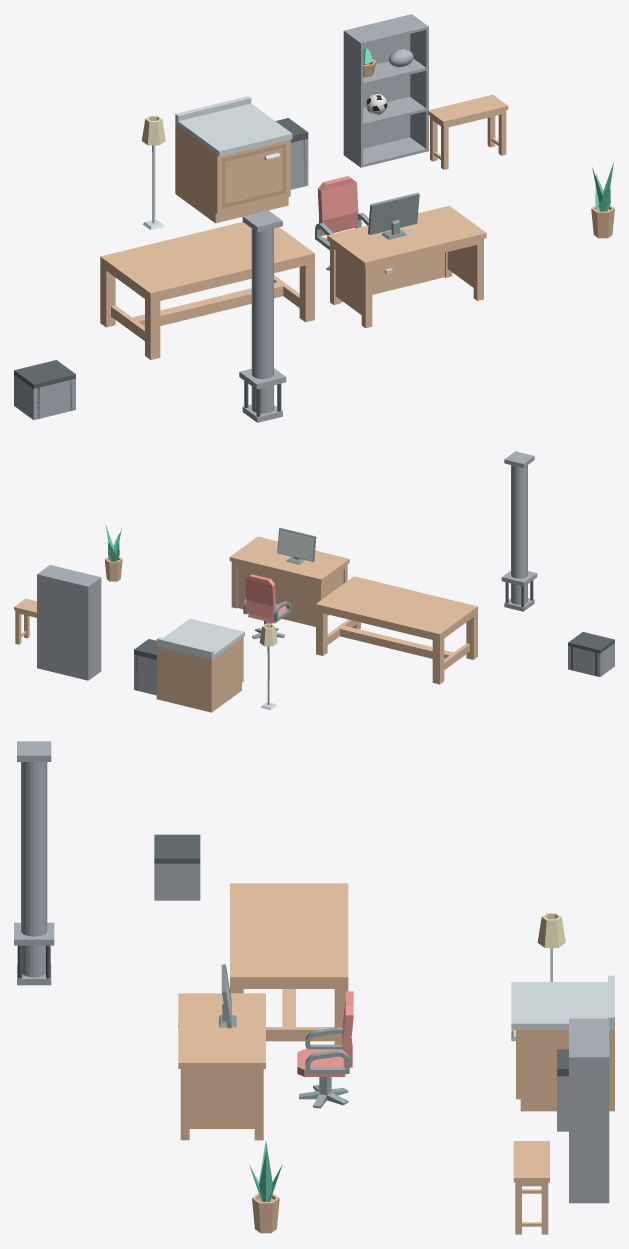
The picture shows the model from 3 angles, top to bottom: view 1: azimuth 30°, elevation 25°; view 2: azimuth 150°, elevation 25°; view 3: azimuth 270°, elevation 25°; orthographic projection. The views are drawn at different scales.
Visible parts, largest first — view 1: table_green__table(Clone), desk_blue__desk(Clone), cabinet_blue__kitchenCabinet(Clone), column_cyan__column_cyan shaft, cabinet_blue__door, sidetable_brown__sideTable(Clone), shelf_orange__shelf_orange back, shelf_orange__shelf_orange side_l, deskchair_black__chair, crate_red__crate_red shell, shelf_orange__shelf_orange side_r, monitor_gray__computerScreen(Clone) (+9 smaller); view 2: table_green__table(Clone), cabinet_blue__kitchenCabinet(Clone), desk_blue__desk(Clone), shelf_orange__shelf_orange back, column_cyan__column_cyan shaft, deskchair_black__chair, shelf_orange__shelf_orange side_l, monitor_gray__computerScreen(Clone), crate_red__crate_red shell, bin_gray__bin_gray shell, sidetable_brown__sideTable(Clone), crate_red__crate_red lid (+3 smaller); view 3: table_green__table(Clone), desk_blue__desk(Clone), cabinet_blue__kitchenCabinet(Clone), shelf_orange__shelf_orange side_r, column_cyan__column_cyan shaft, sidetable_brown__sideTable(Clone), deskchair_black__chair, crate_red__crate_red shell, crate_red__crate_red lid, shelf_orange__shelf_orange board3, lamp_white__lampRoundFloor(Clone), plant_pink__pottedPlant(Clone) (+5 smaller).
Boxes of the visible parts, x1,y1,x2,y2 form: table_green__table(Clone): (100, 221, 314, 359); desk_blue__desk(Clone): (327, 205, 486, 328); cabinet_blue__kitchenCabinet(Clone): (175, 96, 292, 223); column_cyan__column_cyan shaft: (251, 228, 273, 413); cabinet_blue__door: (222, 143, 285, 208); sidetable_brown__sideTable(Clone): (428, 94, 508, 169); shelf_orange__shelf_orange back: (346, 15, 410, 148); shelf_orange__shelf_orange side_l: (343, 30, 363, 167); deskchair_black__chair: (315, 176, 368, 249); crate_red__crate_red shell: (14, 375, 75, 419); shelf_orange__shelf_orange side_r: (409, 14, 428, 151); monitor_gray__computerScreen(Clone): (368, 192, 419, 239); table_green__table(Clone): (316, 576, 477, 684); cabinet_blue__kitchenCabinet(Clone): (156, 618, 244, 712); desk_blue__desk(Clone): (229, 536, 349, 626); shelf_orange__shelf_orange back: (39, 574, 86, 679); column_cyan__column_cyan shaft: (511, 465, 527, 604); deskchair_black__chair: (243, 574, 291, 623); shelf_orange__shelf_orange side_l: (86, 577, 101, 680); monitor_gray__computerScreen(Clone): (277, 528, 316, 564); crate_red__crate_red shell: (568, 643, 614, 676); bin_gray__bin_gray shell: (134, 654, 156, 695); sidetable_brown__sideTable(Clone): (14, 598, 36, 644); crate_red__crate_red lid: (568, 632, 614, 653); table_green__table(Clone): (230, 883, 348, 1044); desk_blue__desk(Clone): (178, 993, 265, 1140); cabinet_blue__kitchenCabinet(Clone): (511, 975, 614, 1111); shelf_orange__shelf_orange side_r: (569, 1056, 609, 1203); column_cyan__column_cyan shaft: (21, 762, 47, 977); sidetable_brown__sideTable(Clone): (513, 1141, 549, 1234); deskchair_black__chair: (297, 991, 353, 1076); crate_red__crate_red shell: (154, 863, 200, 900); crate_red__crate_red lid: (154, 834, 200, 863); shelf_orange__shelf_orange board3: (569, 1020, 606, 1055); lamp_white__lampRoundFloor(Clone): (537, 913, 565, 981); plant_pink__pottedPlant(Clone): (252, 1193, 279, 1233).
Bounding box in the file's own units: 7.39 × 2.2 × 5.22.
